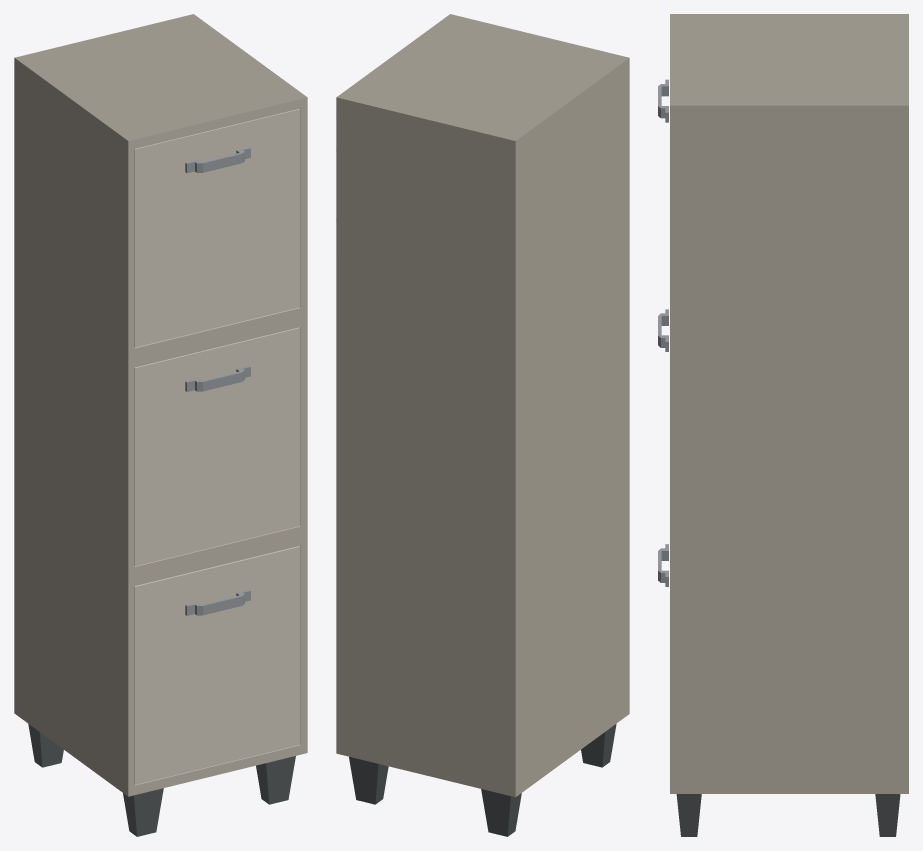
The model's file is Big_Locker_Bege.fbx.
The picture shows the model from 3 angles, left to right: view 1: azimuth 30°, elevation 25°; view 2: azimuth 150°, elevation 25°; view 3: azimuth 270°, elevation 25°; orthographic projection. The views are drawn at different scales.
Visible parts, largest first — view 1: Gabinet.001; view 2: Gabinet.001; view 3: Gabinet.001.
Boxes of the visible parts, x1,y1,x2,y2 form: Gabinet.001: (14,14,307,836); Gabinet.001: (336,14,629,836); Gabinet.001: (658,14,908,836).
Size of the model in its own units: 40 by 150 by 46.17.
